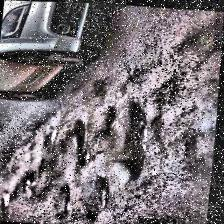pothole: (114, 100, 154, 178), (186, 8, 224, 58), (69, 116, 93, 162), (102, 105, 122, 137), (16, 169, 40, 195), (83, 170, 93, 220), (0, 190, 16, 208)
